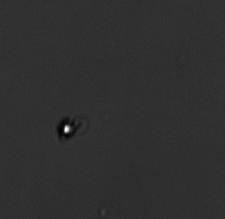Living Cell: (55, 117, 78, 139)
